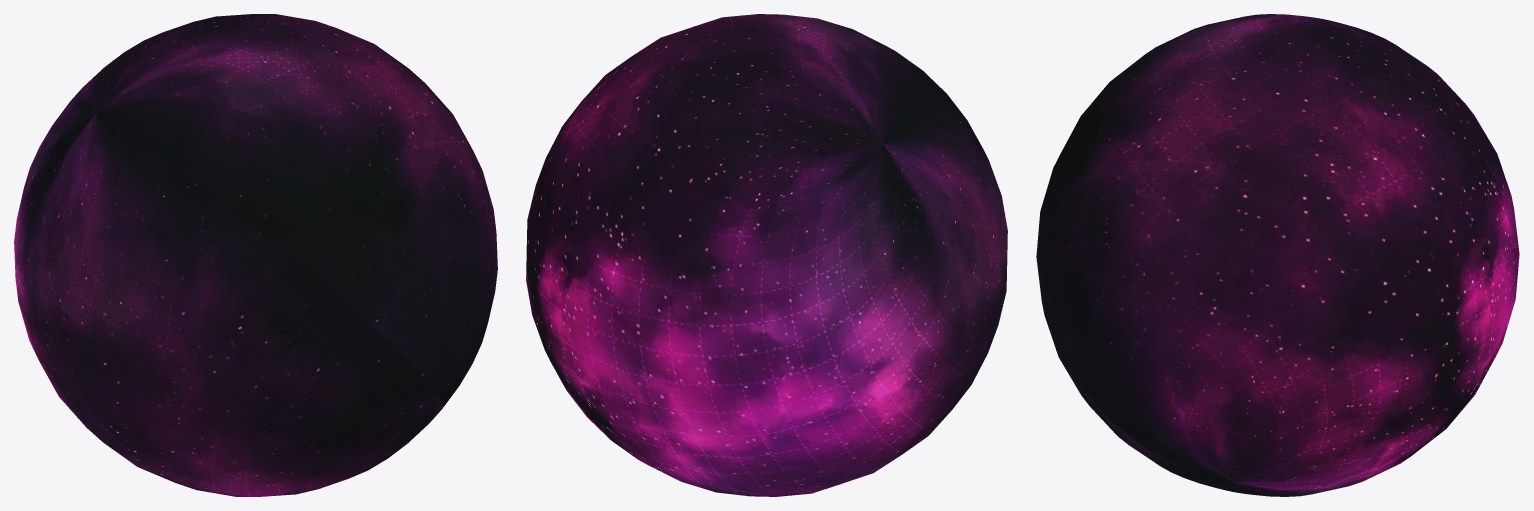
File: lLed.glb
3 views of the same model, side by side, from view 1: azimuth 30°, elevation 25°; view 2: azimuth 150°, elevation 25°; view 3: azimuth 270°, elevation 25° (orthographic).
Visible parts, largest first — view 1: Object_8; view 2: Object_8; view 3: Object_8.
Boxes of the visible parts, left/top/right/bottom form: Object_8: left=14, top=14, right=497, bottom=496; Object_8: left=526, top=14, right=1007, bottom=496; Object_8: left=1036, top=14, right=1519, bottom=496.
Size of the model in its own units: 2387 by 2394 by 2394.
3 materials, 3 textured.
